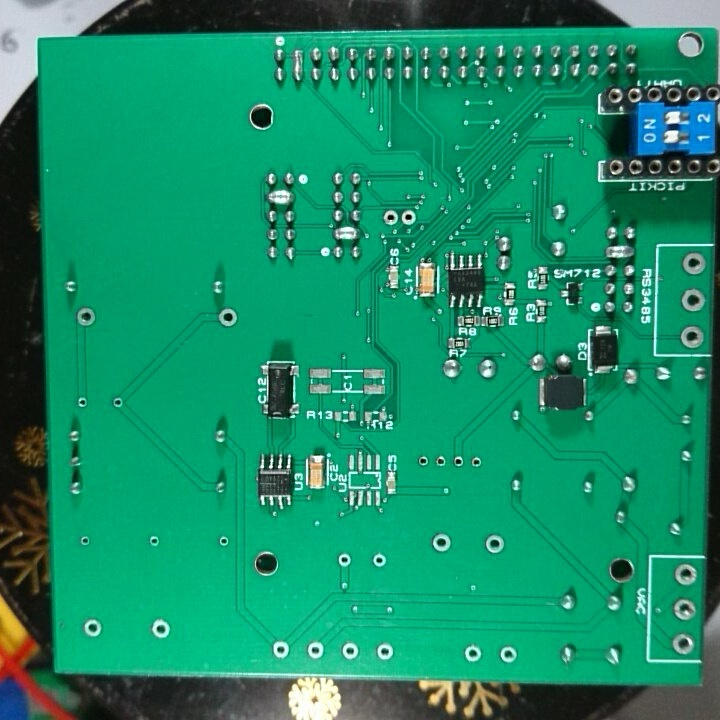F: (678, 285, 708, 316), (681, 249, 708, 280), (677, 323, 705, 351), (672, 562, 700, 590), (427, 530, 455, 558), (671, 598, 697, 626), (216, 307, 242, 332), (671, 631, 695, 658), (483, 530, 505, 558), (304, 638, 329, 662), (339, 638, 364, 662), (81, 616, 106, 640), (74, 306, 98, 330), (496, 644, 521, 667), (270, 637, 293, 660), (150, 618, 173, 641), (374, 640, 396, 664), (462, 643, 487, 664), (400, 206, 420, 232), (370, 549, 390, 574), (380, 206, 400, 229), (334, 552, 353, 570), (78, 533, 96, 551), (416, 452, 433, 471), (433, 452, 449, 472), (74, 394, 91, 412), (451, 452, 466, 472), (217, 532, 232, 551), (111, 394, 126, 413), (468, 452, 482, 472), (147, 532, 161, 551)
P: (602, 241, 640, 263), (290, 47, 307, 87), (266, 187, 296, 208), (333, 226, 362, 243)
